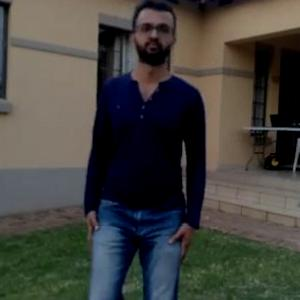follow: (92, 16, 199, 299)
